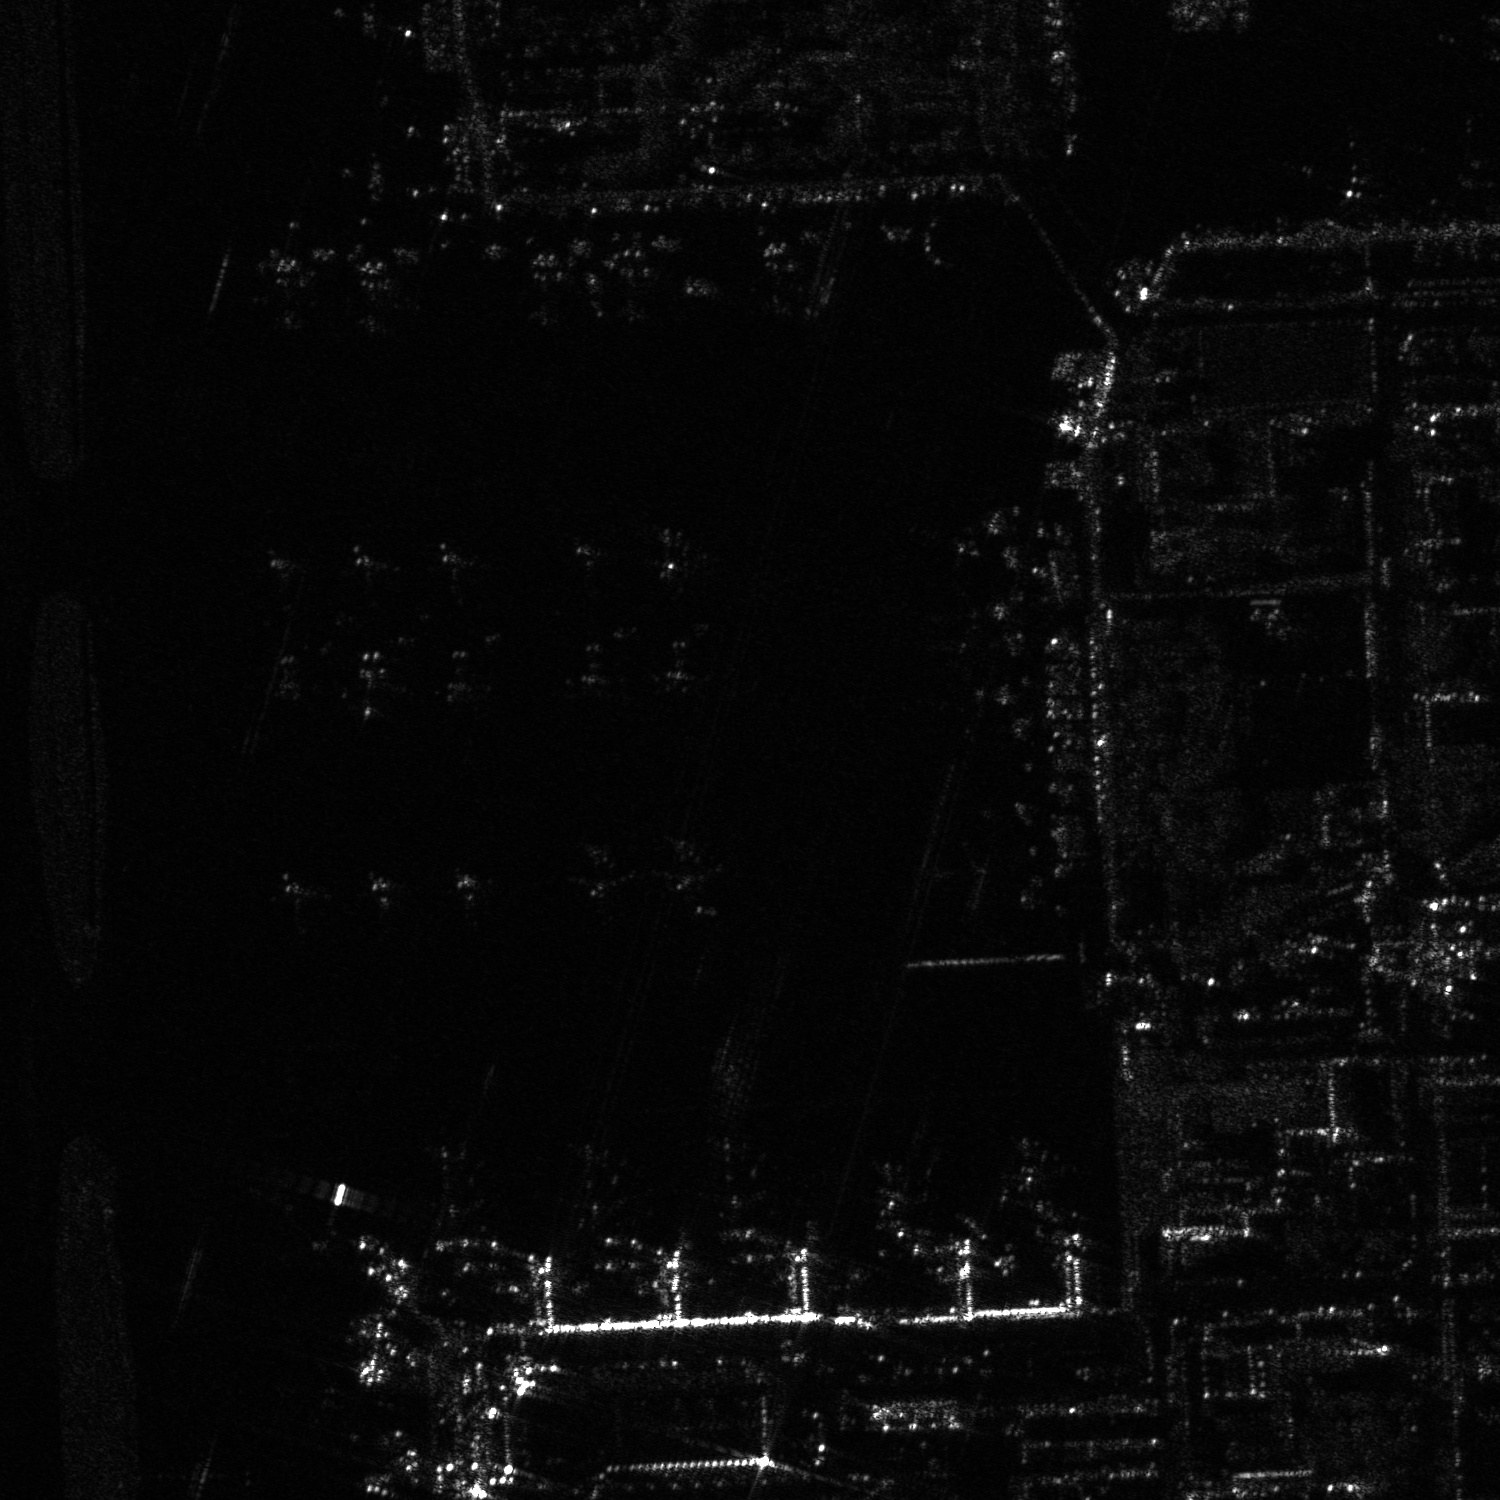A220: (545, 1144, 659, 1245), (988, 1132, 1082, 1223), (648, 835, 728, 907), (556, 637, 633, 705), (352, 867, 413, 937)
A320/321: (243, 246, 324, 330), (440, 861, 499, 933)
ARJ21: (743, 238, 821, 317), (262, 864, 334, 944), (651, 637, 713, 699), (431, 646, 490, 707), (261, 652, 316, 705)
Boeing737: (332, 257, 424, 339), (334, 644, 407, 727), (514, 246, 578, 326)
Boeing787: (691, 1137, 782, 1245), (853, 1163, 935, 1239)
other: (407, 1140, 508, 1255), (593, 245, 672, 324), (565, 842, 643, 918), (635, 523, 710, 598), (339, 543, 398, 613), (422, 540, 478, 610), (255, 545, 308, 621), (560, 532, 615, 596)
